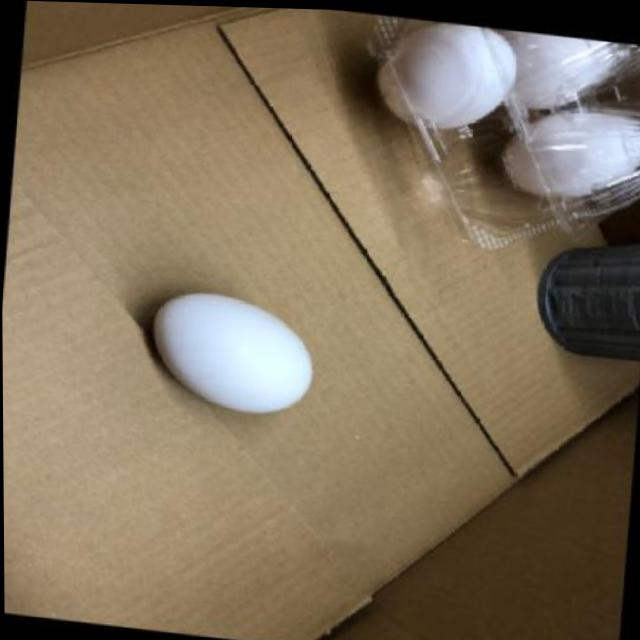egg: (140, 285, 326, 425), (376, 17, 521, 141), (501, 100, 640, 205), (488, 25, 628, 112)
